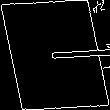L_W: (2, 37, 108, 73)
